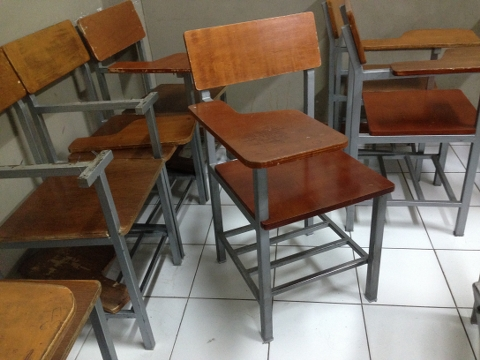kursi: (183, 12, 395, 344), (340, 1, 480, 236)
